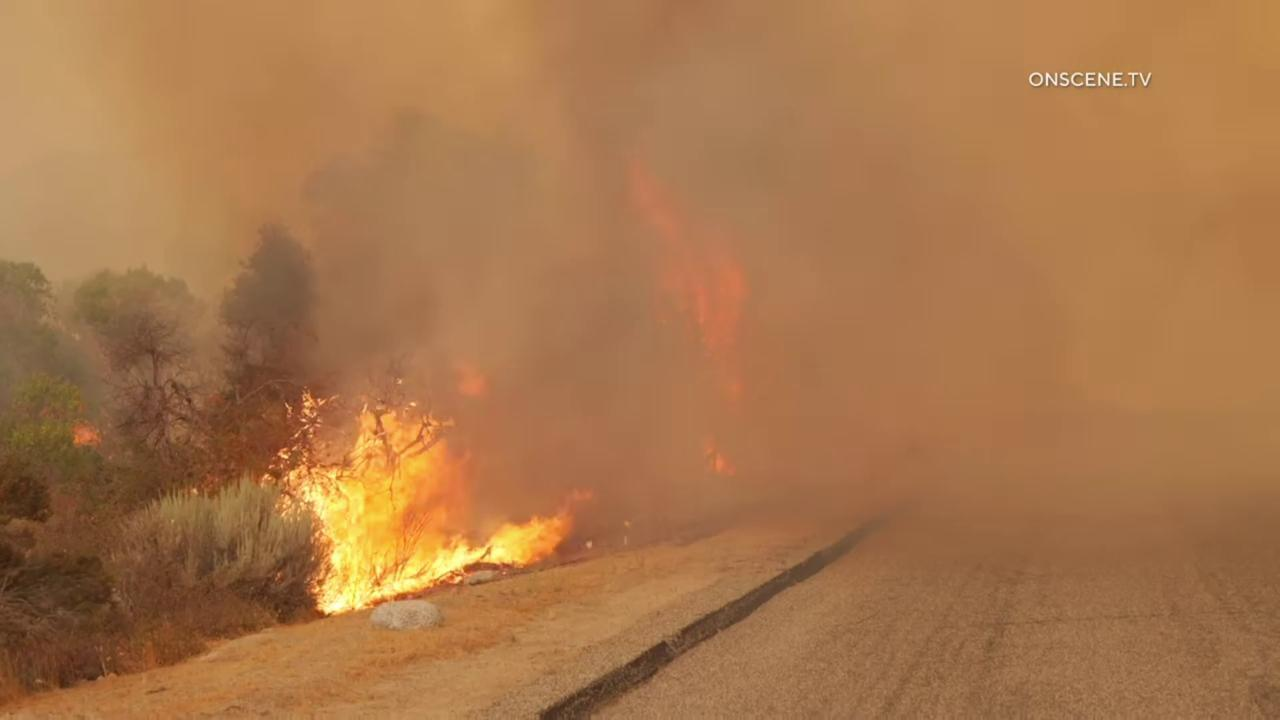fire: (243, 381, 602, 617), (618, 149, 751, 413), (452, 363, 493, 400), (64, 417, 108, 449), (699, 441, 736, 478)
smoke: (0, 0, 1280, 720)
